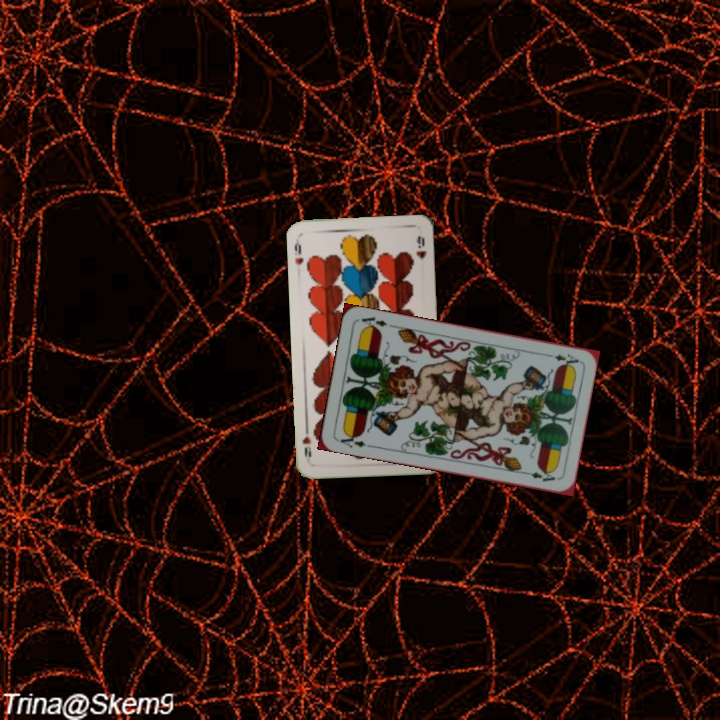EA: (334, 429, 374, 451), (542, 350, 581, 369)
H9: (290, 235, 306, 267)
